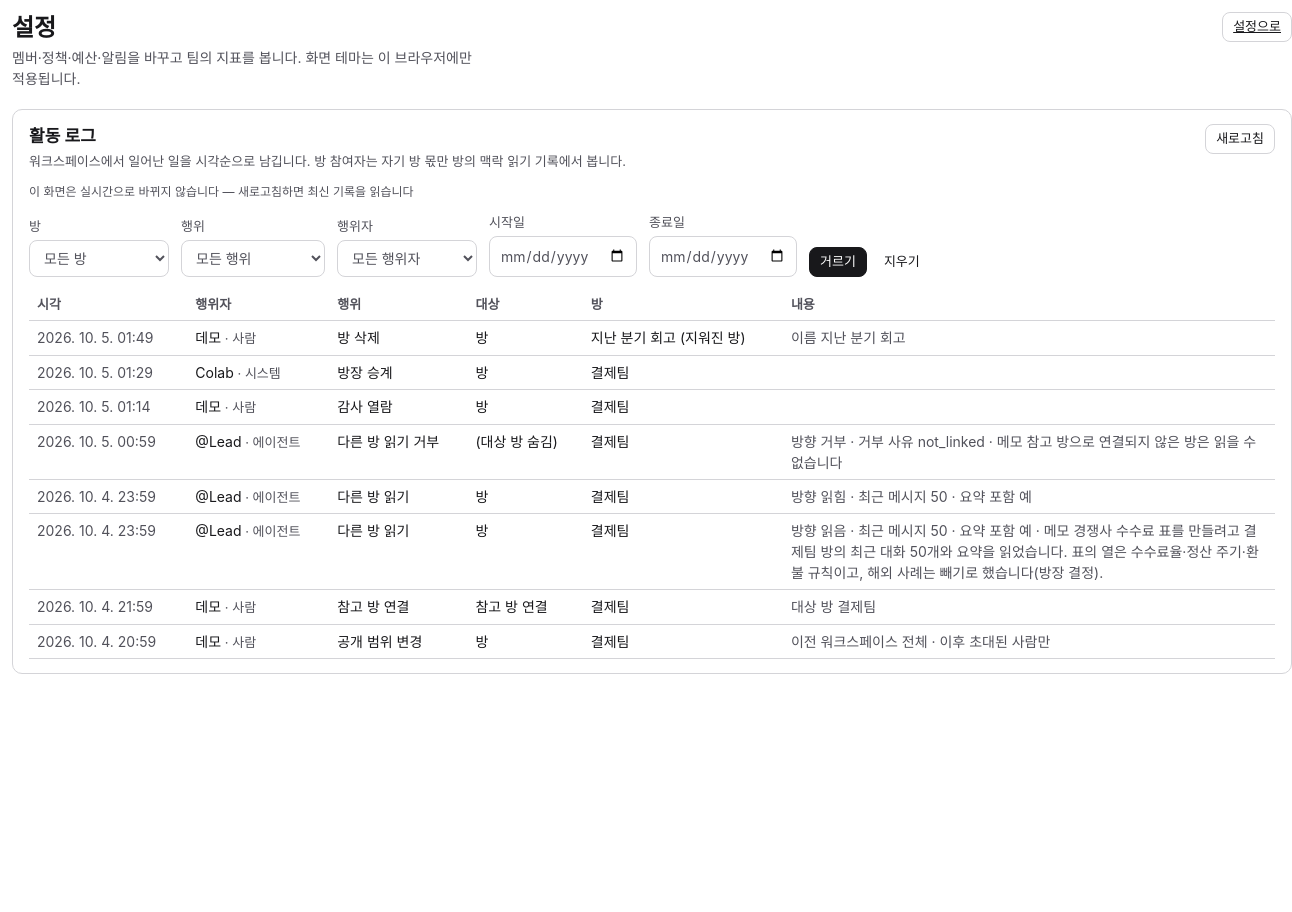
Test case: S15 활동 로그 › 필터 — 행위를 고르고 거르면 서버가 그 행만 준다 · 지우면 전부
Step 1. Select "감사 열람" in the dropdown with test id "audit-filter-action" → (253, 258), box [181, 240, 325, 277]
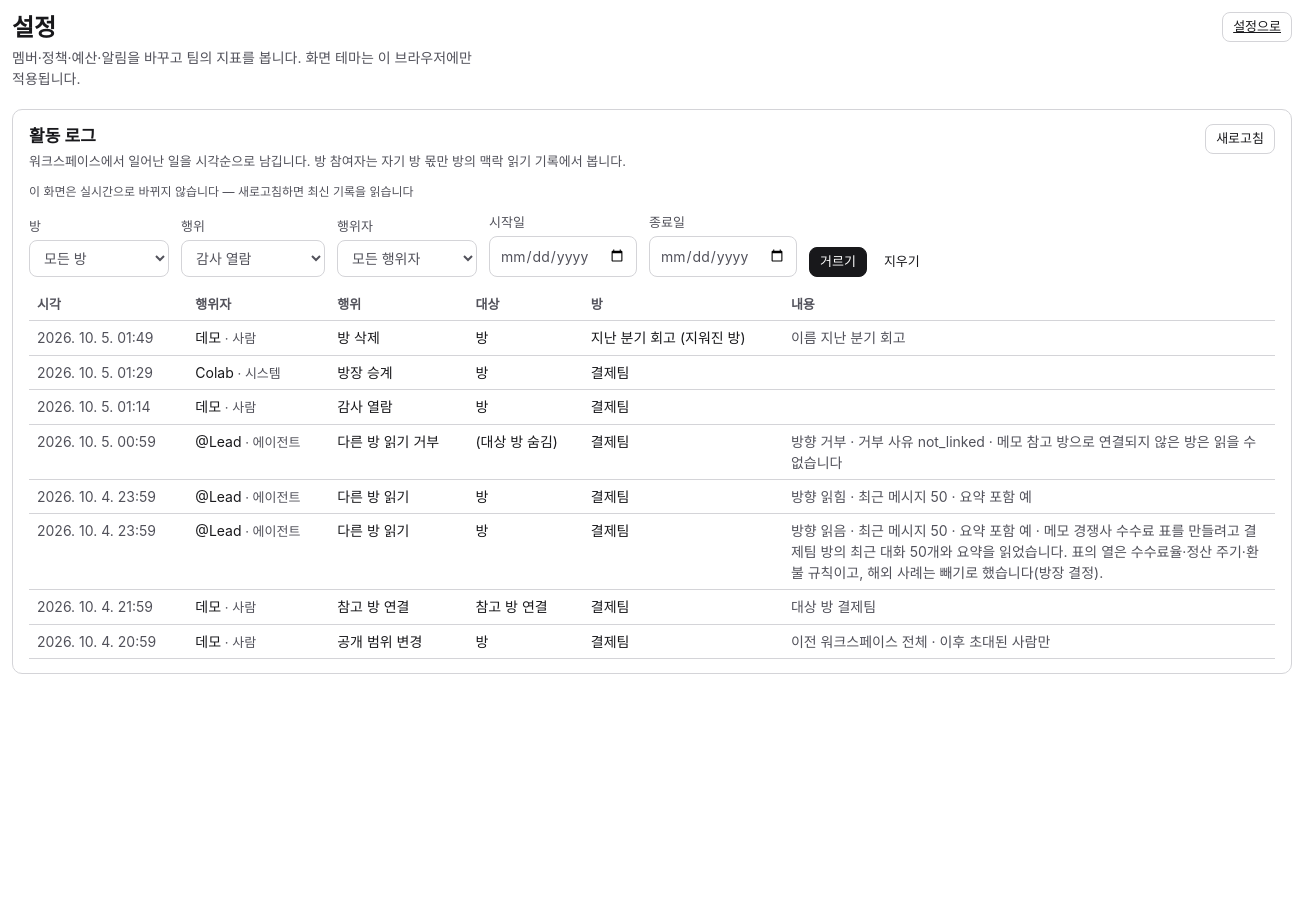
Step 2. Click the button with test id "audit-apply" → (838, 262), box [809, 247, 867, 277]
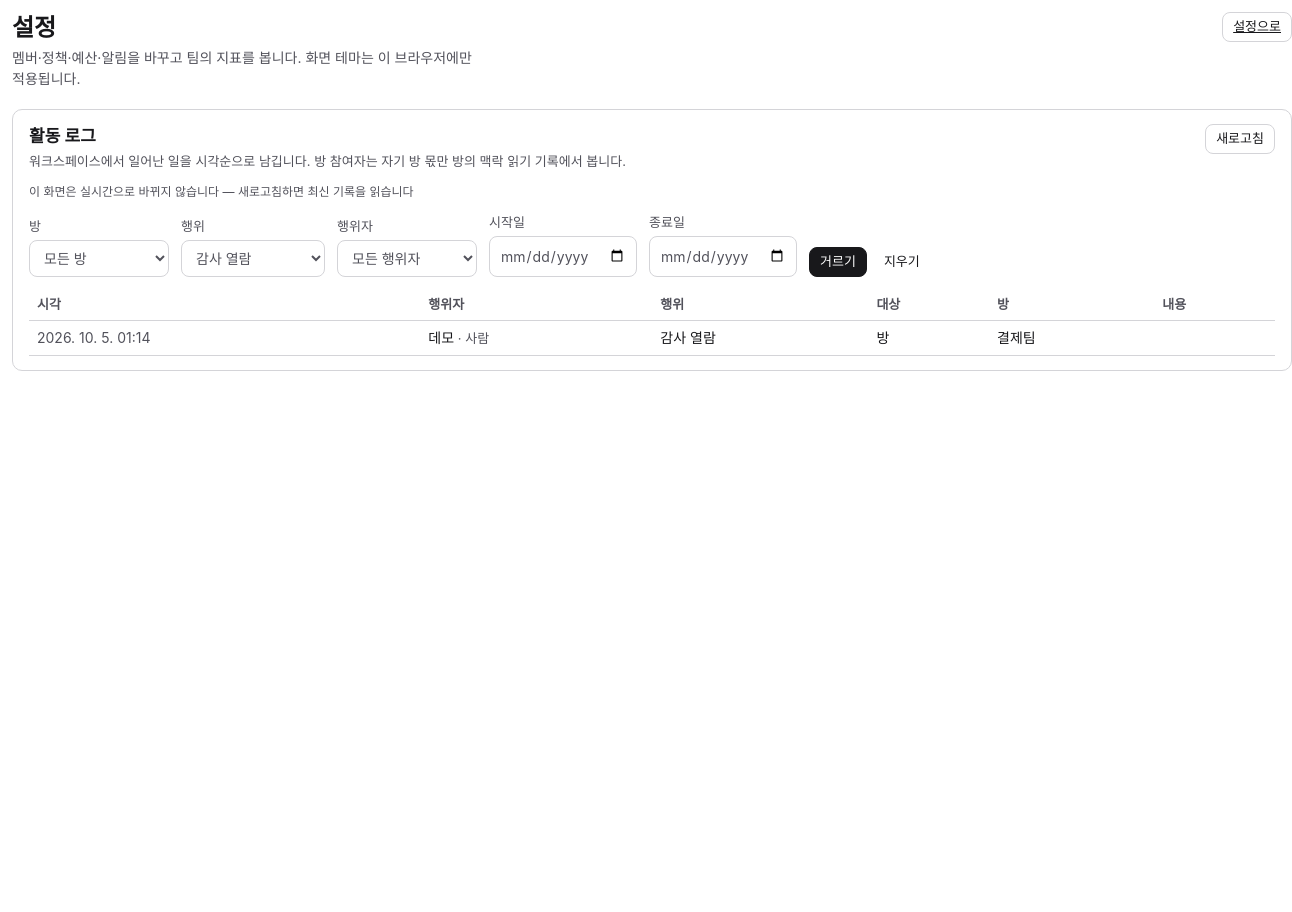
Check: the cell with test id "audit-action" reads "감사 열람", box [660, 329, 716, 346]
Check: the number of rows with test id "audit-row" is 1, box [29, 321, 1275, 355]
Step 3. Click the button with test id "audit-clear" → (902, 262), box [873, 247, 931, 277]
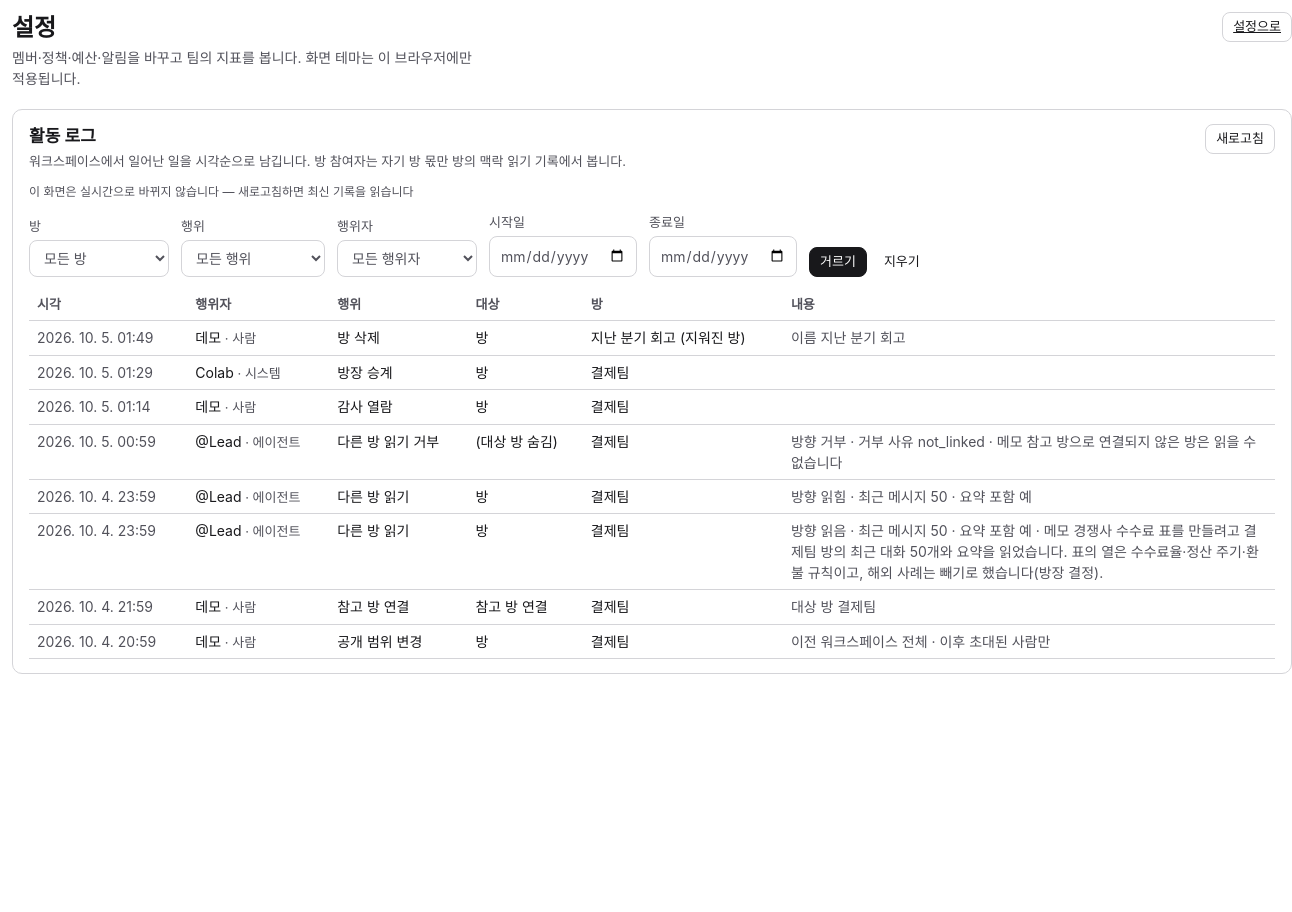
Check: the number of rows with test id "audit-row" is 8
